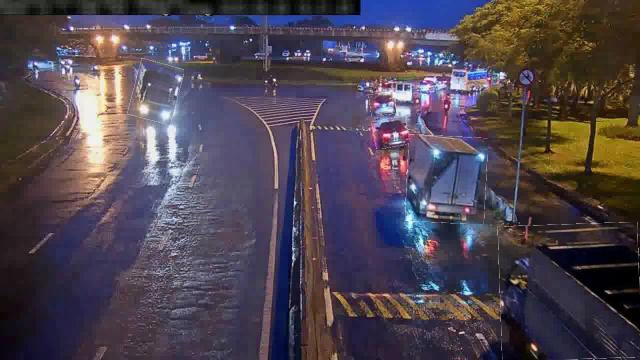Car: (373, 118, 409, 148), (370, 92, 396, 116)
Truck: (498, 223, 640, 359), (406, 135, 486, 223), (130, 61, 182, 123)
